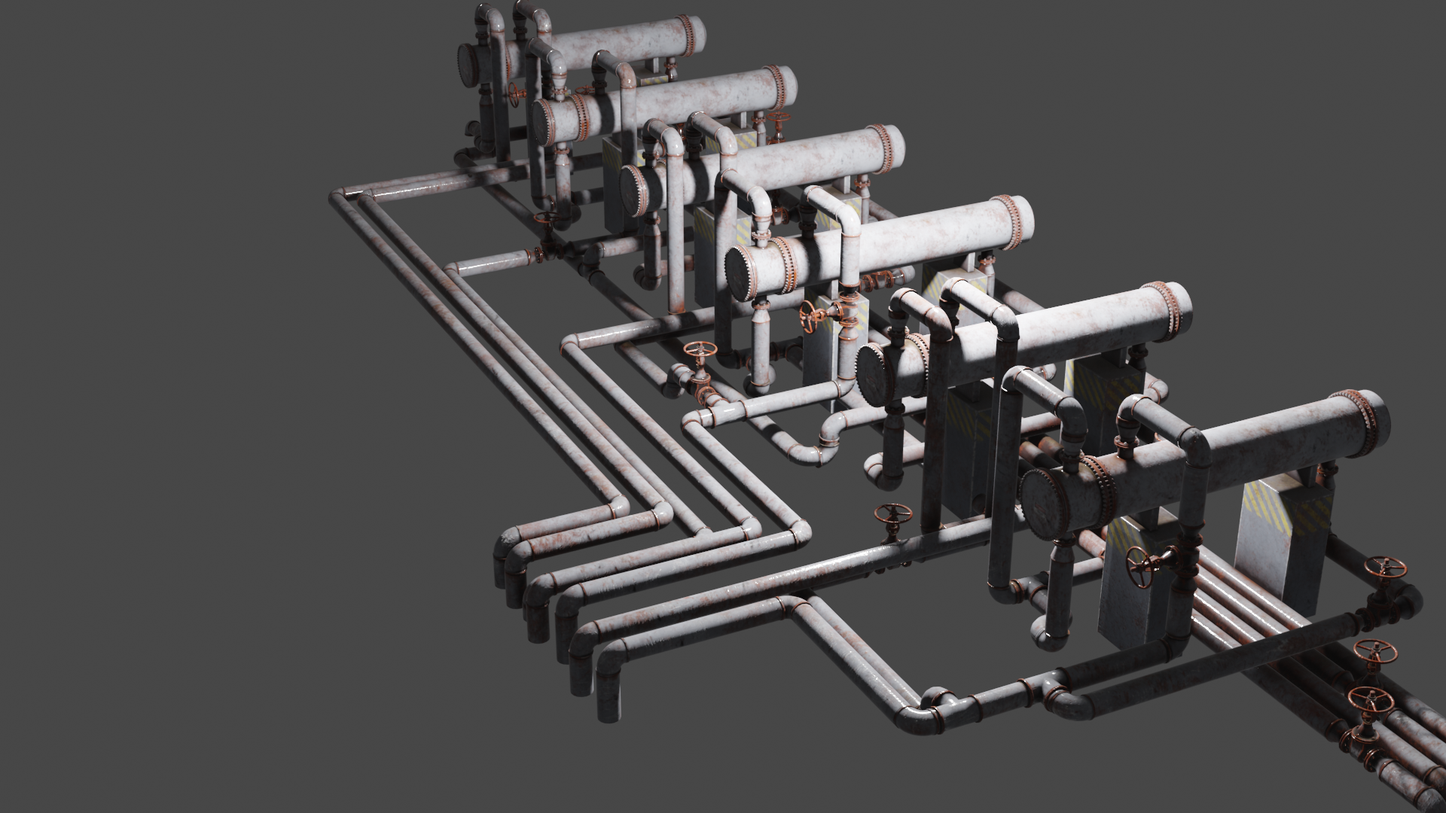HE_1: (454, 14, 709, 86)
HE_2: (529, 65, 800, 146)
HE_3: (603, 118, 911, 221)
HE_4: (718, 189, 1043, 300)
HE_5: (851, 280, 1195, 404)
HE_6: (1020, 385, 1396, 542)
